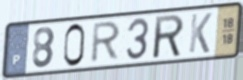0: (62, 21, 87, 68)
3: (125, 16, 151, 62)
8: (31, 26, 55, 69)
K: (187, 12, 214, 55)
R: (88, 19, 123, 65), (153, 13, 186, 61)
